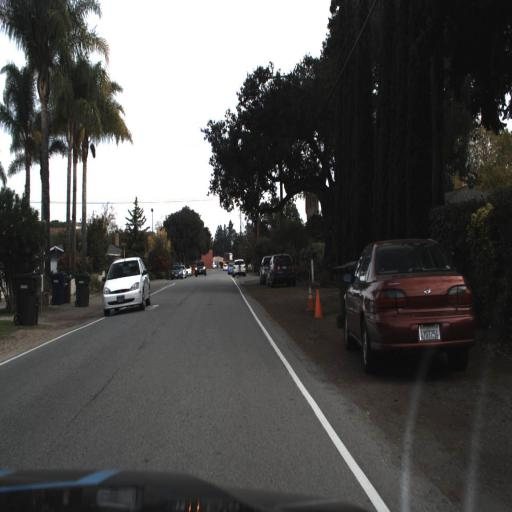car: (338, 236, 472, 370), (341, 236, 472, 370), (100, 255, 150, 316), (102, 256, 152, 314), (266, 253, 296, 285), (193, 259, 208, 280), (231, 258, 246, 276)
